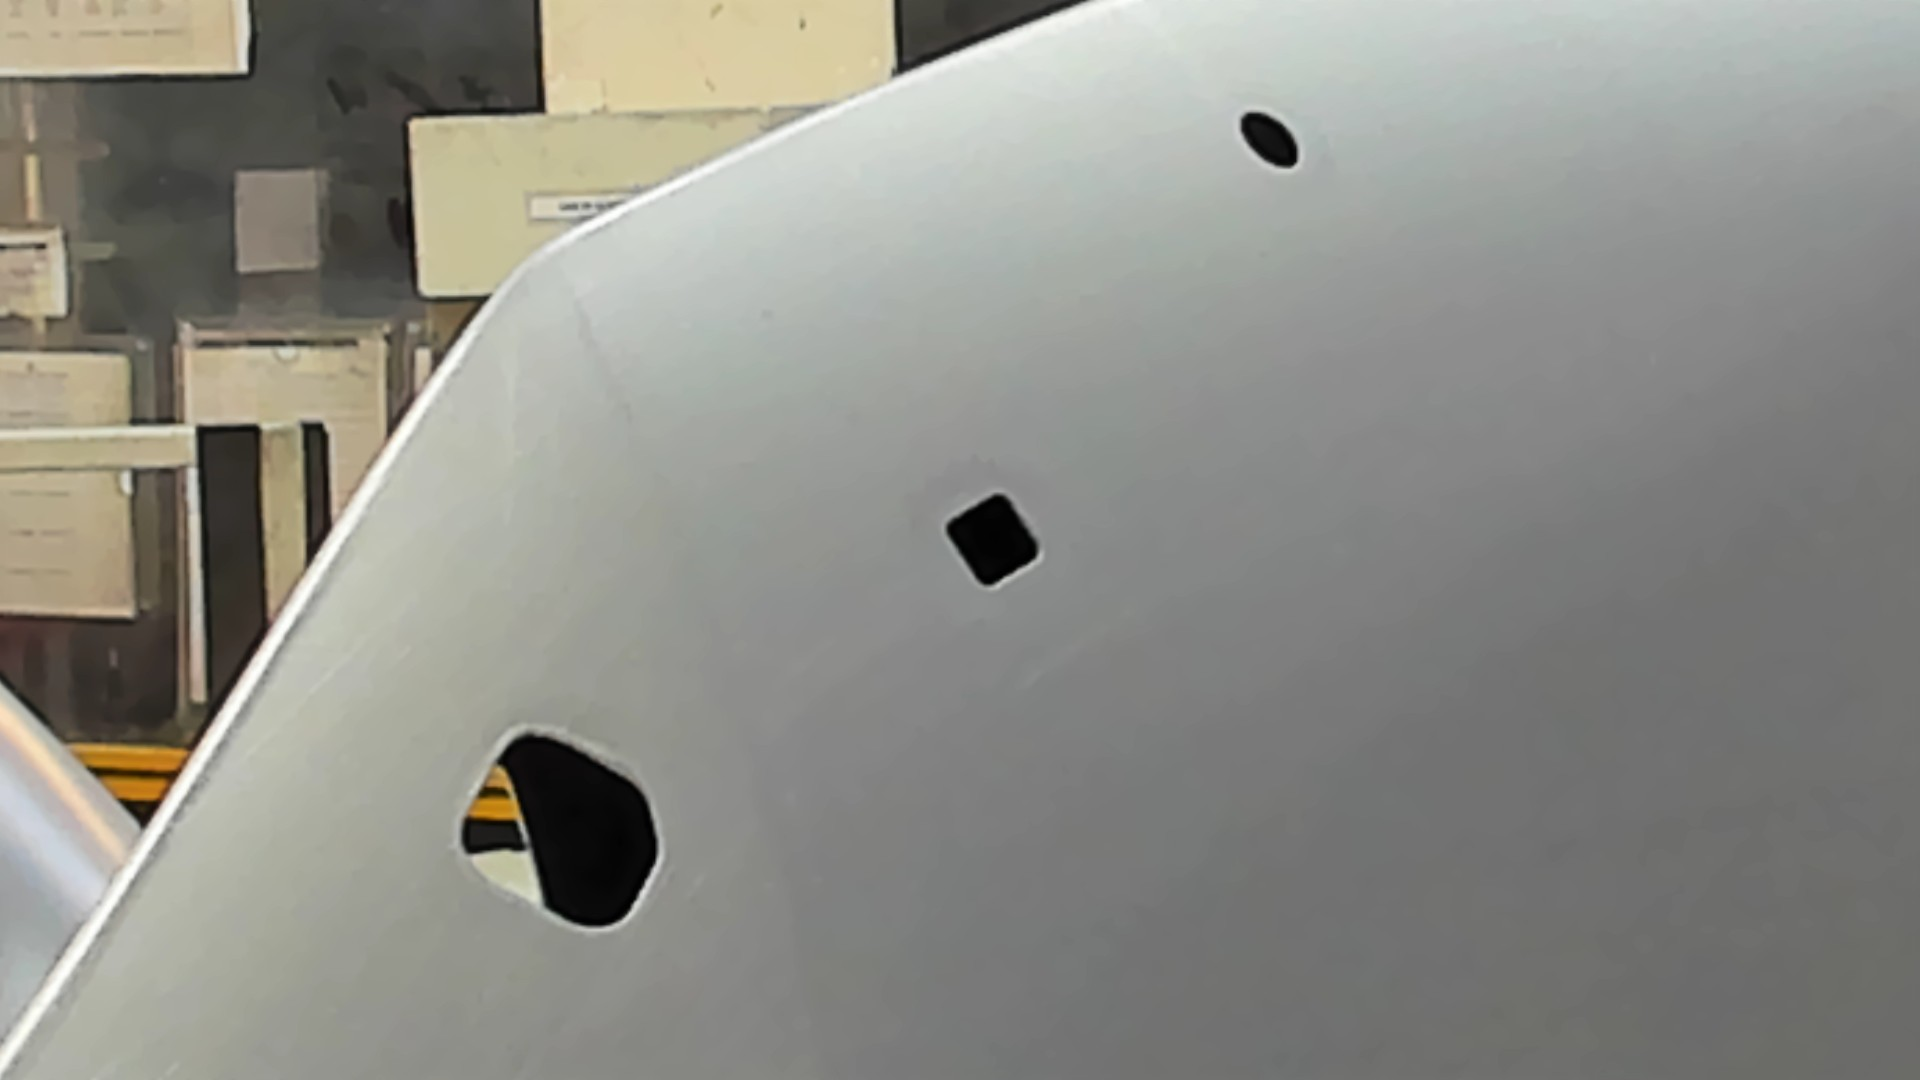capo: (1056, 178, 1920, 1073)
chico: (1237, 105, 1305, 174)
grande: (451, 719, 669, 942)
mediano: (936, 488, 1047, 592)
